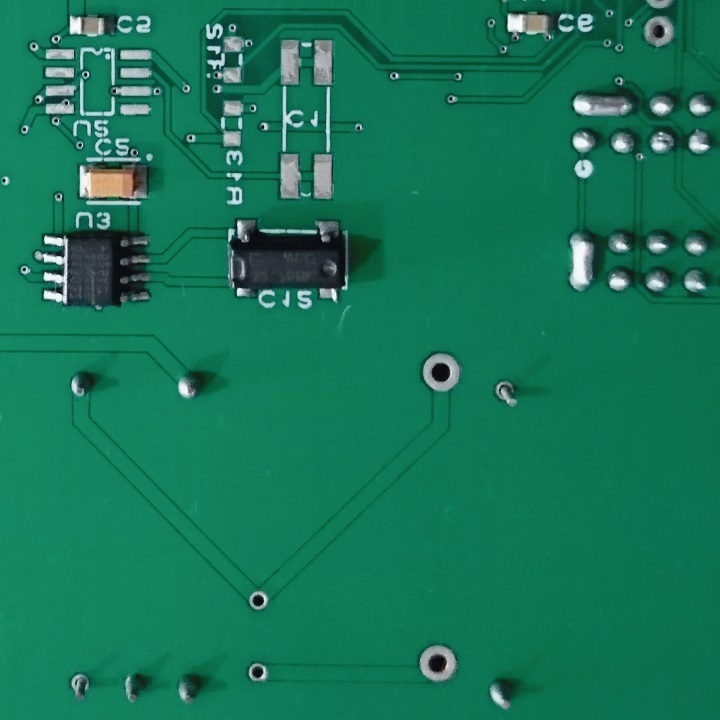F: (419, 350, 464, 398), (417, 641, 461, 684), (641, 14, 679, 49), (493, 377, 521, 412), (70, 669, 93, 704), (246, 660, 269, 685), (248, 589, 272, 612)
P: (567, 225, 599, 299), (570, 89, 637, 123)
